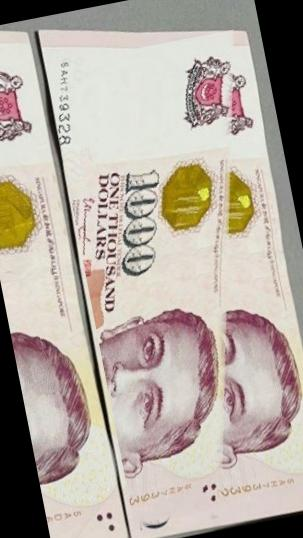1000SingaporeDollar: (45, 29, 303, 538)
